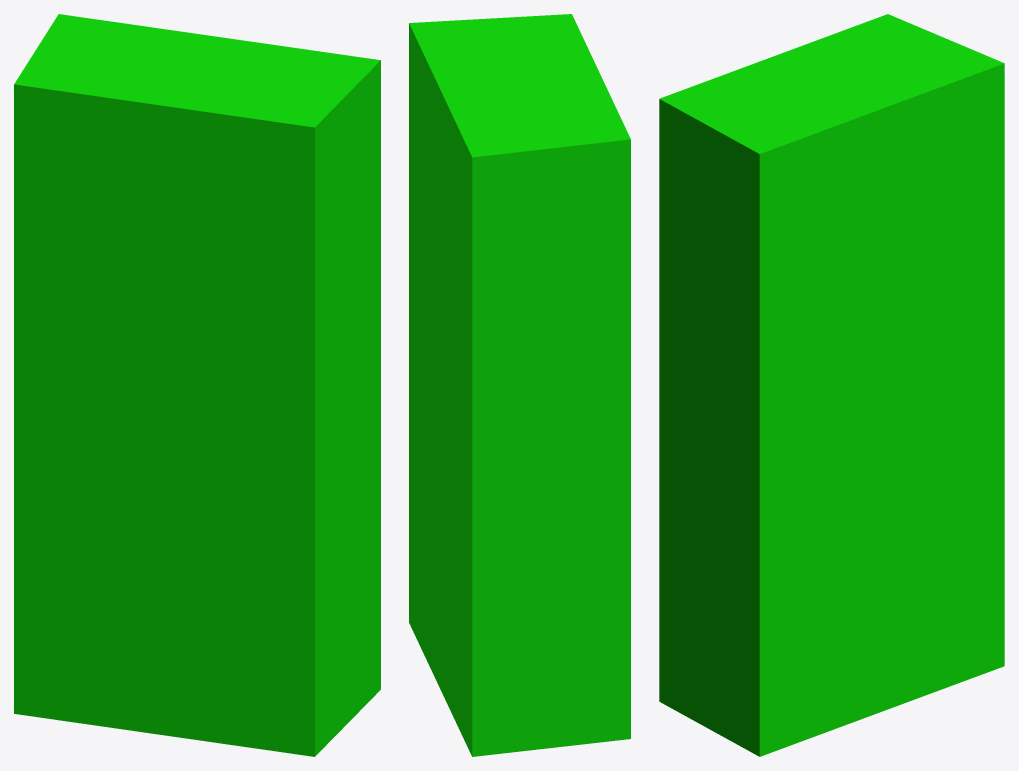
3 renders of one model, left to right at view 1: azimuth 30°, elevation 25°; view 2: azimuth 150°, elevation 25°; view 3: azimuth 270°, elevation 25°, orthographic. The views are drawn at different scales.
Parts seen in each view (by area): view 1: Circle.023; view 2: Circle.023; view 3: Circle.023.
Boxes of the visible parts, x1,y1,x2,y2 form: Circle.023: [14, 14, 380, 756]; Circle.023: [409, 14, 630, 756]; Circle.023: [659, 14, 1004, 756].
Size of the model in its own units: 1020 by 2044 by 1062.
